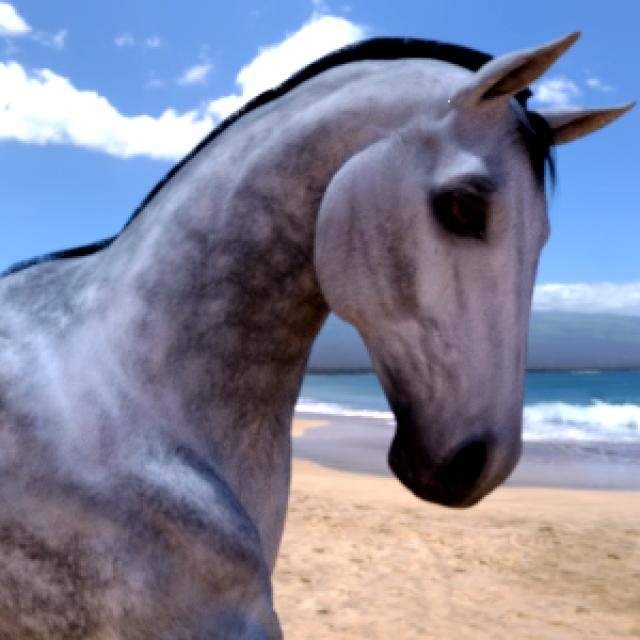horse: (0, 32, 630, 639)
